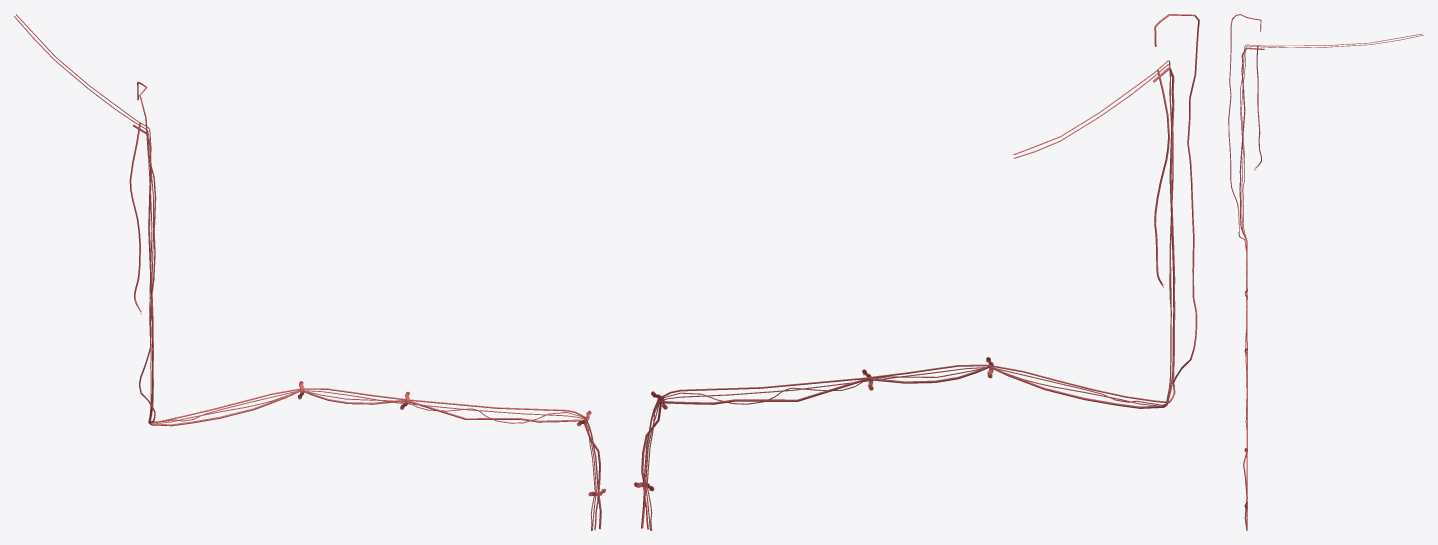
The model's file is Wire_H_Snaps004.FBX.
The picture shows the model from 3 angles, left to right: view 1: azimuth 30°, elevation 25°; view 2: azimuth 150°, elevation 25°; view 3: azimuth 270°, elevation 25°; orthographic projection. The views are drawn at different scales.
Visible parts, largest first — view 1: Geometry_Wire_H_LOD00; view 2: Geometry_Wire_H_LOD00; view 3: Geometry_Wire_H_LOD00.
Boxes of the visible parts, bbox=[...] form: Geometry_Wire_H_LOD00: bbox=[14, 14, 605, 530]; Geometry_Wire_H_LOD00: bbox=[634, 14, 1199, 530]; Geometry_Wire_H_LOD00: bbox=[1228, 14, 1423, 530].
Size of what is drawn, in the model's own units: 334 by 372 by 179.
